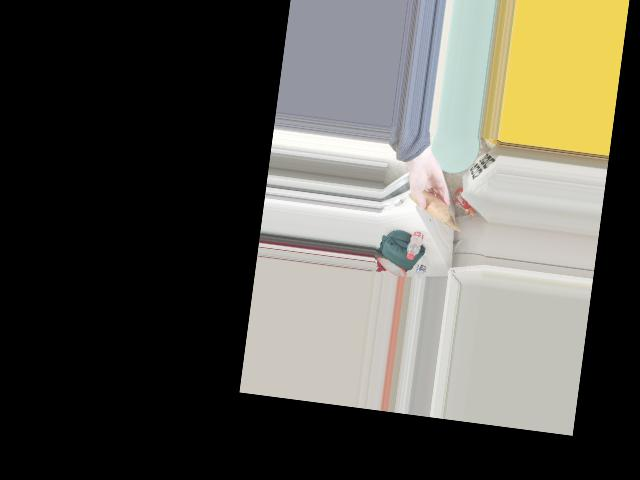sweet_potato: (414, 190, 451, 221)
